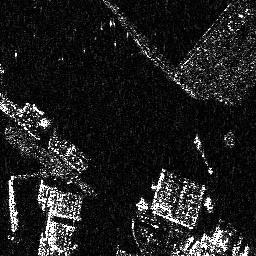ship: (191, 133, 214, 175)
